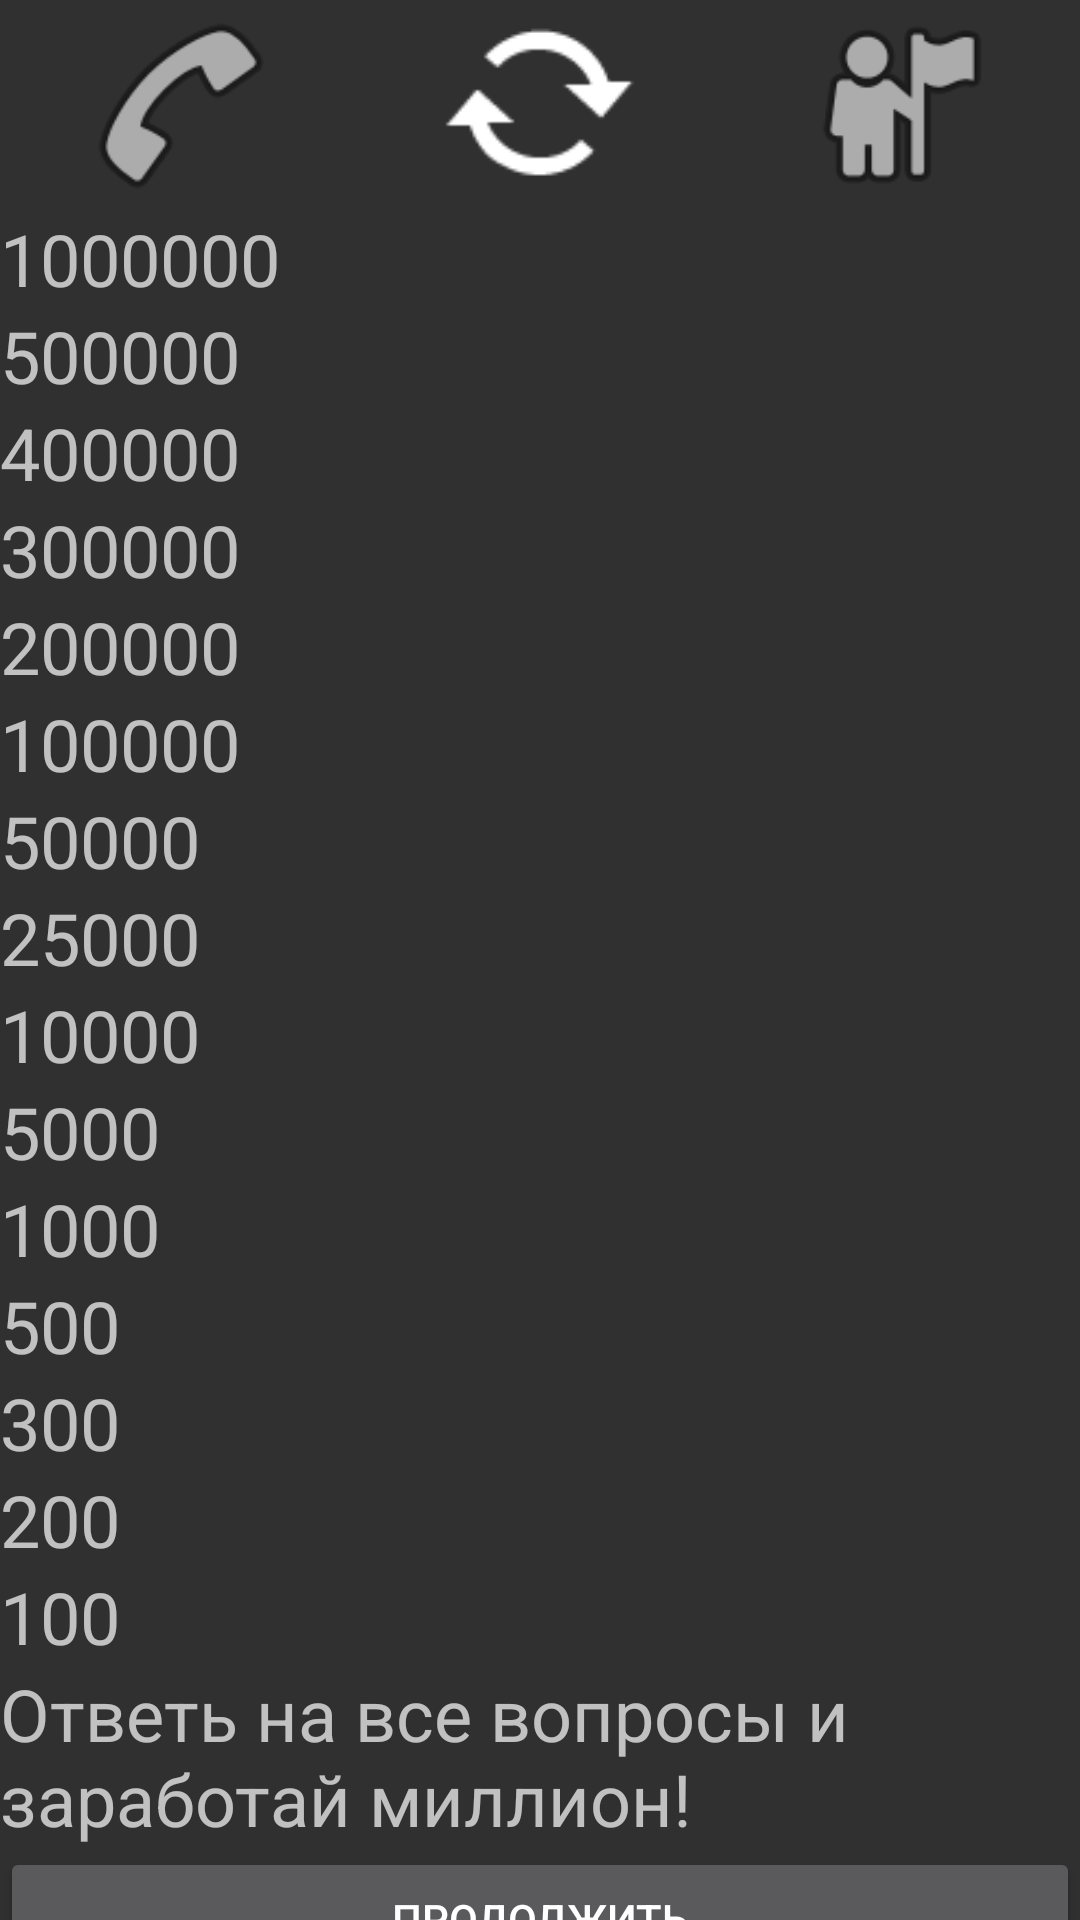

Screen size 1080×1920. Icon name, then its center in pixels as (x,y):
call: (180,105)
myplaces: (903,105)
sync noanim: (539,102)
